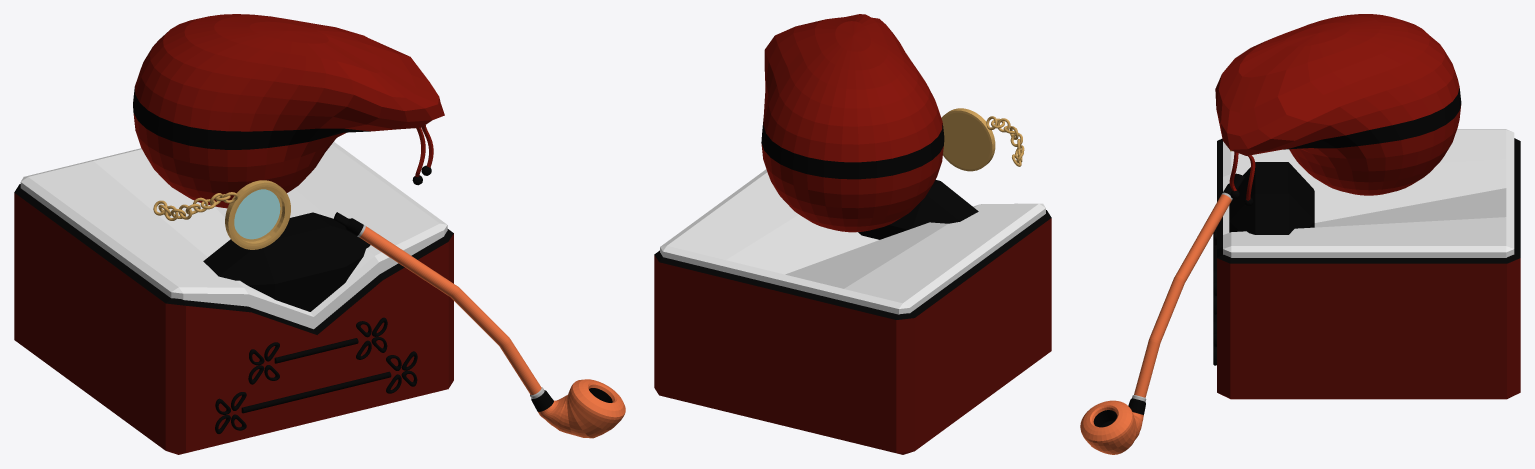
File: WealthMan.fbx
3 views of the same model, side by side, from view 1: azimuth 30°, elevation 25°; view 2: azimuth 150°, elevation 25°; view 3: azimuth 270°, elevation 25° (orthographic). The views are drawn at different scales.
Visible parts, largest first — view 1: Torus.001, Sphere, Cylinder.002, Cylinder, Torus.002; view 2: Torus.001, Sphere, Cylinder, Torus.002; view 3: Torus.001, Sphere, Cylinder.002.
Part boxes in pixels (bbox=[...]): Torus.001: bbox=[14, 142, 453, 454]; Sphere: bbox=[133, 14, 444, 208]; Cylinder.002: bbox=[333, 212, 625, 438]; Cylinder: bbox=[225, 180, 290, 249]; Torus.002: bbox=[153, 192, 237, 220]; Torus.001: bbox=[654, 169, 1051, 454]; Sphere: bbox=[761, 14, 944, 232]; Cylinder: bbox=[941, 108, 995, 171]; Torus.002: bbox=[986, 116, 1024, 166]; Torus.001: bbox=[1213, 129, 1520, 399]; Sphere: bbox=[1215, 14, 1461, 206]; Cylinder.002: bbox=[1080, 173, 1244, 454].
Bounding box in the file's own units: 303 × 273 × 324.
